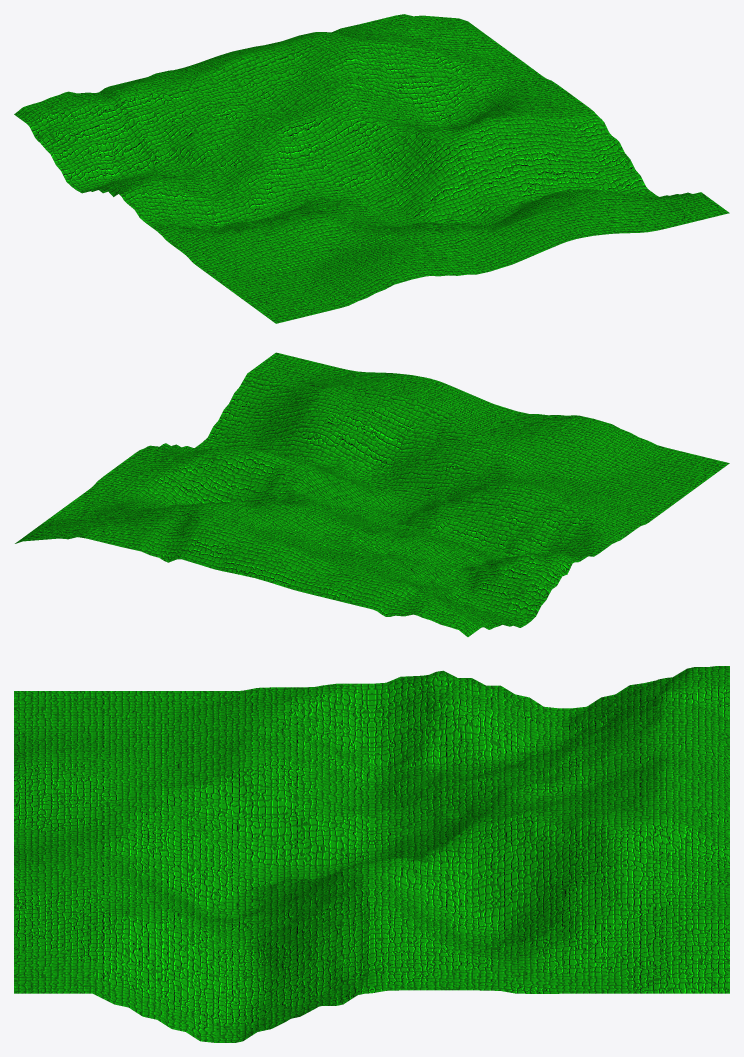
The model's file is greenland.gltf.
3 views of the same model, one above another, from view 1: azimuth 30°, elevation 25°; view 2: azimuth 150°, elevation 25°; view 3: azimuth 270°, elevation 25° (orthographic). The views are drawn at different scales.
Visible parts, largest first — view 1: pPlaneShape1_0; view 2: pPlaneShape1_0; view 3: pPlaneShape1_0.
Part boxes in pixels (x1,y1,x2,y2): pPlaneShape1_0: (14, 14, 729, 323); pPlaneShape1_0: (15, 352, 729, 636); pPlaneShape1_0: (14, 666, 729, 1042).
Bounding box in the file's own units: 21.77 × 3.8 × 21.77.
Materials: 1 (1 with a texture image).
